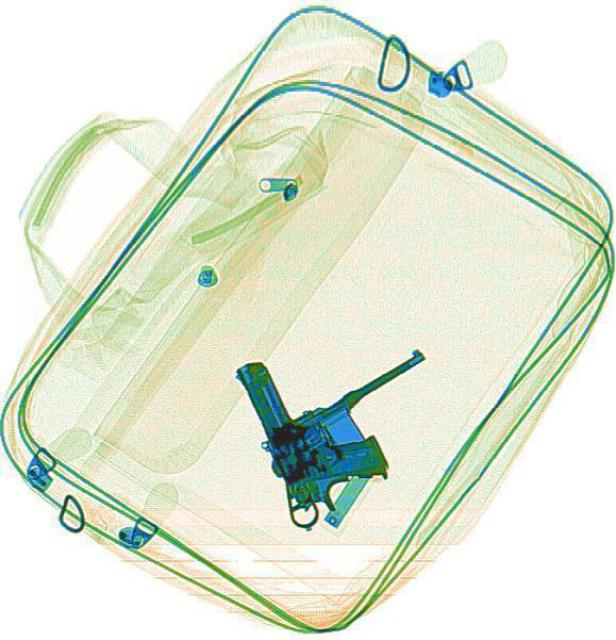Gun: (241, 342, 470, 530), (231, 328, 393, 520)
